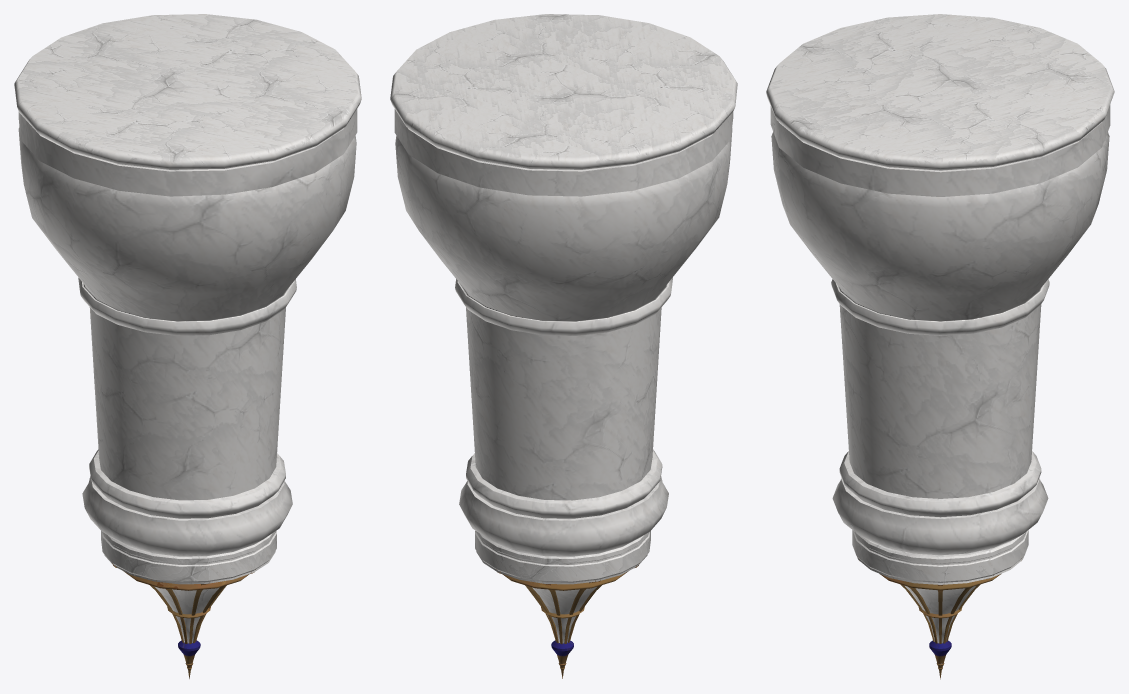
The model's file is BgMD_Ruins_Landing.fbx.
3 renders of one model, left to right at view 1: azimuth 30°, elevation 25°; view 2: azimuth 150°, elevation 25°; view 3: azimuth 270°, elevation 25°, orthographic.
Parts seen in each view (by area): view 1: SM_Ruins_landing; view 2: SM_Ruins_landing; view 3: SM_Ruins_landing.
Part boxes in pixels (box(x1,y1,x2,y2)): SM_Ruins_landing: box(14, 14, 361, 678); SM_Ruins_landing: box(390, 14, 737, 678); SM_Ruins_landing: box(766, 14, 1114, 679).
Bounding box in the file's own units: 1397 × 2619 × 1395.
